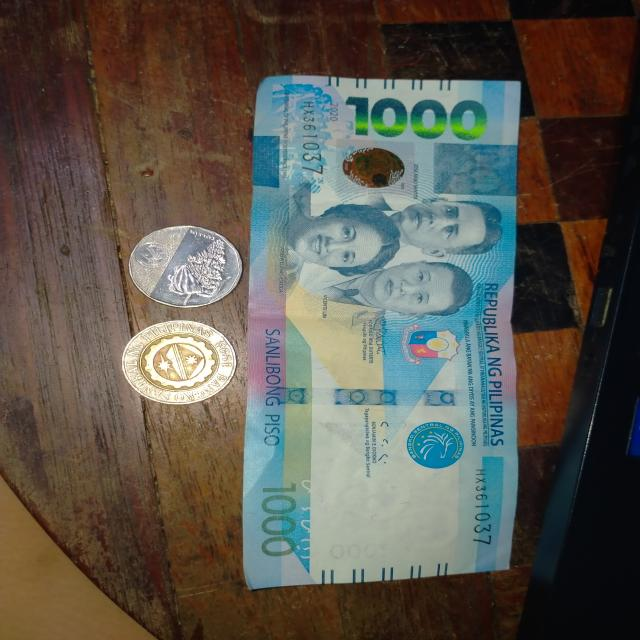concealed_value: (431, 143, 518, 200)
optically_variable_device: (329, 133, 416, 203)
see_through_mark: (292, 476, 328, 566)
value_watermark: (324, 537, 393, 565)
